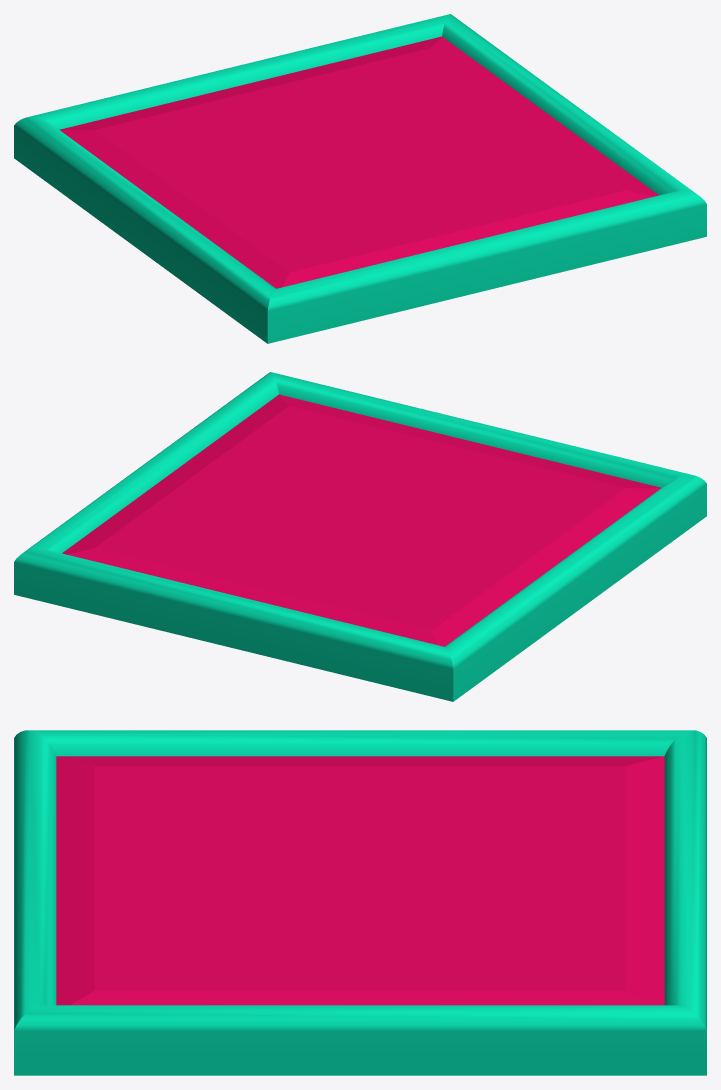
The model's file is Empty_Plant_Bed 1.fbx.
3 views of the same model, one above another, from view 1: azimuth 30°, elevation 25°; view 2: azimuth 150°, elevation 25°; view 3: azimuth 270°, elevation 25° (orthographic). The views are drawn at different scales.
Visible parts, largest first — view 1: Empty_Bed_Dirt1, Empty_Bed; view 2: Empty_Bed_Dirt1, Empty_Bed; view 3: Empty_Bed_Dirt1, Empty_Bed.
Part boxes in pixels (bbox=[...]): Empty_Bed_Dirt1: bbox=[59, 36, 658, 288]; Empty_Bed: bbox=[14, 14, 706, 343]; Empty_Bed_Dirt1: bbox=[62, 394, 661, 646]; Empty_Bed: bbox=[14, 372, 706, 701]; Empty_Bed_Dirt1: bbox=[56, 756, 664, 1005]; Empty_Bed: bbox=[14, 730, 706, 1075].
Size of the model in its own units: 4.24 by 0.4002 by 4.24.
